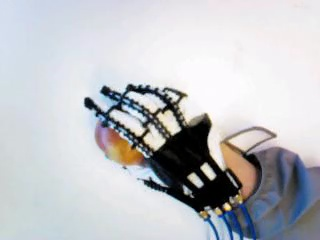apple: (93, 115, 146, 165)
hand: (83, 82, 240, 219)
